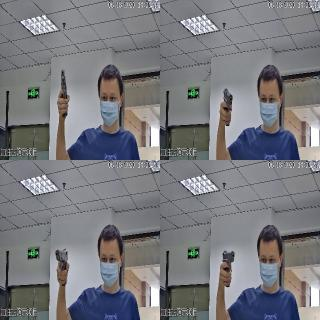gun: (56, 68, 70, 118), (53, 244, 69, 284), (222, 248, 234, 288), (223, 87, 233, 127)
